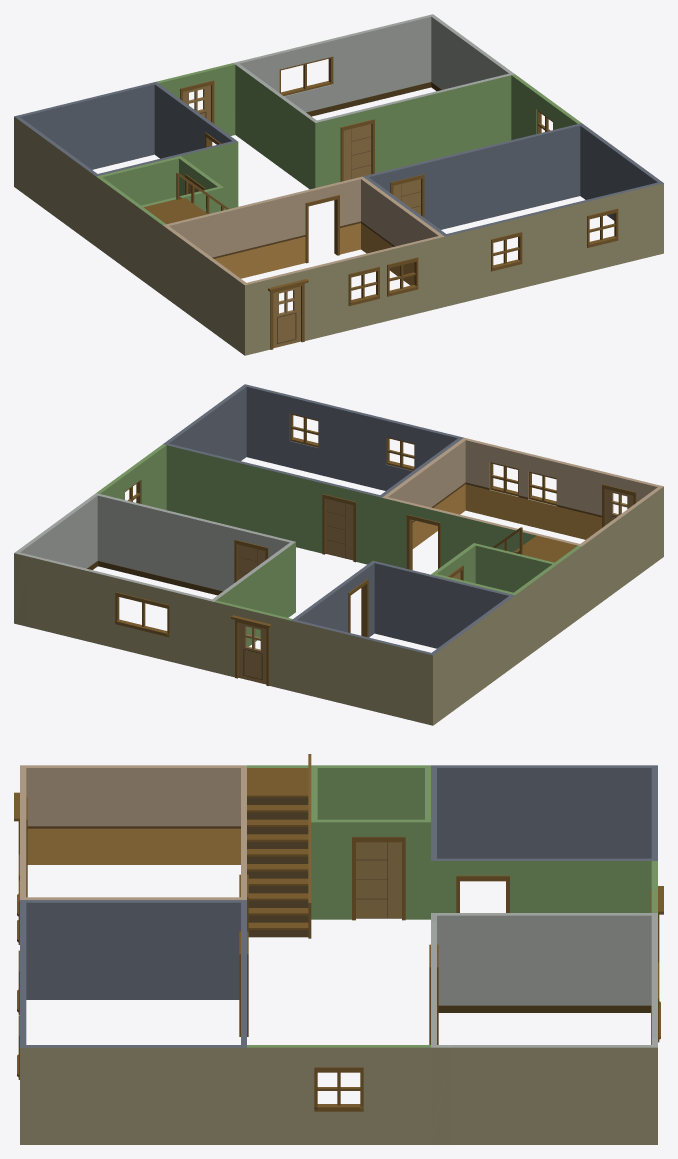
Rendered from house_layout.fbx.
The picture shows the model from 3 angles, top to bottom: view 1: azimuth 30°, elevation 25°; view 2: azimuth 150°, elevation 25°; view 3: azimuth 270°, elevation 25°; orthographic projection. The views are drawn at different scales.
Visible parts, largest first — view 1: wall_2m_warehouse.009, wall_2m_bedroom.011, wall_2m_bedroom.012, wall_2m_kitchen.007, wall_2m_warehouse.010, wall_2m_warehouse.008, wall_2m_warehouse.023, wall_2m_kitchen.002, wall_2m_kitchen.006, wall_2m_bedroom.003, wall_2m_bedroom.002, wall_2m_bedroom.001 (+71 smaller); view 2: wall_2m_warehouse.022, wall_2m_bedroom.003, wall_2m_bedroom.002, wall_2m_bedroom.011, wall_2m_warehouse.017, wall_2m_warehouse.021, wall_2m_bedroom.012, wall_2m_warehouse.023, wall_2m_kitchen.002, wall_2m_bedroom.001, wall_2m_warehouse.008, wall_2m_warehouse.009 (+73 smaller); view 3: Cube.001, wall_2m_bedroom.004, wall_2m_bedroom.005, wall_2m_bedroom.006, wall_2m_bedroom.007, wall_2m_bedroom.008, wall_2m_bedroom.009, wall_2m_kitchen.001, wall_2m_kitchen.003, wall_2m_kitchen.004, wall_2m_warehouse.001, wall_2m_warehouse.002 (+36 smaller).
Part boxes in pixels (<box>): wall_2m_warehouse.009: <box>492,135,532,216</box>; wall_2m_bedroom.011: <box>343,27,383,108</box>; wall_2m_bedroom.012: <box>381,17,421,98</box>; wall_2m_kitchen.007: <box>263,191,303,272</box>; wall_2m_warehouse.010: <box>453,145,493,226</box>; wall_2m_warehouse.008: <box>530,126,570,207</box>; wall_2m_warehouse.023: <box>105,85,144,166</box>; wall_2m_kitchen.002: <box>304,259,344,340</box>; wall_2m_kitchen.006: <box>224,201,264,278</box>; wall_2m_bedroom.003: <box>452,78,492,153</box>; wall_2m_bedroom.002: <box>413,87,453,163</box>; wall_2m_bedroom.001: <box>375,97,415,172</box>; wall_2m_warehouse.022: <box>342,632,382,712</box>; wall_2m_bedroom.003: <box>116,498,156,579</box>; wall_2m_bedroom.002: <box>155,508,195,589</box>; wall_2m_bedroom.011: <box>66,564,106,645</box>; wall_2m_warehouse.017: <box>384,564,424,645</box>; wall_2m_warehouse.021: <box>381,641,421,722</box>; wall_2m_bedroom.012: <box>27,555,67,635</box>; wall_2m_warehouse.023: <box>304,622,344,703</box>; wall_2m_kitchen.002: <box>561,462,601,539</box>; wall_2m_bedroom.001: <box>193,517,234,595</box>; wall_2m_warehouse.008: <box>176,446,216,521</box>; wall_2m_warehouse.009: <box>214,455,254,531</box>; Cube.001: <box>247,754,311,938</box>; wall_2m_bedroom.004: <box>452,1045,513,1144</box>; wall_2m_bedroom.005: <box>513,1045,574,1144</box>; wall_2m_bedroom.006: <box>575,1045,636,1144</box>; wall_2m_bedroom.007: <box>452,913,513,1012</box>; wall_2m_bedroom.008: <box>513,913,574,1012</box>; wall_2m_bedroom.009: <box>575,913,636,1012</box>; wall_2m_kitchen.001: <box>164,765,225,864</box>; wall_2m_kitchen.003: <box>41,765,102,864</box>; wall_2m_kitchen.004: <box>103,765,164,864</box>; wall_2m_warehouse.001: <box>164,900,225,999</box>; wall_2m_warehouse.002: <box>41,900,102,999</box>.
Bounding box in the file's own units: 21.9 × 4.8 × 21.2.
Materials: 11 (11 with a texture image).
